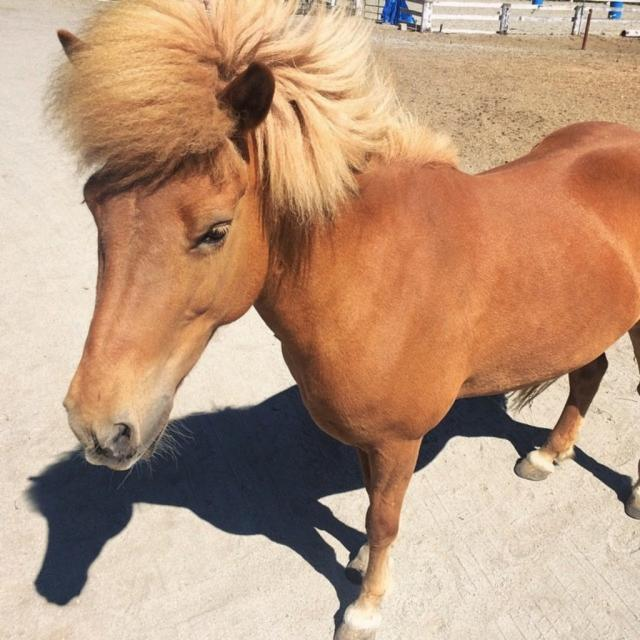Horse: (40, 2, 639, 639)
